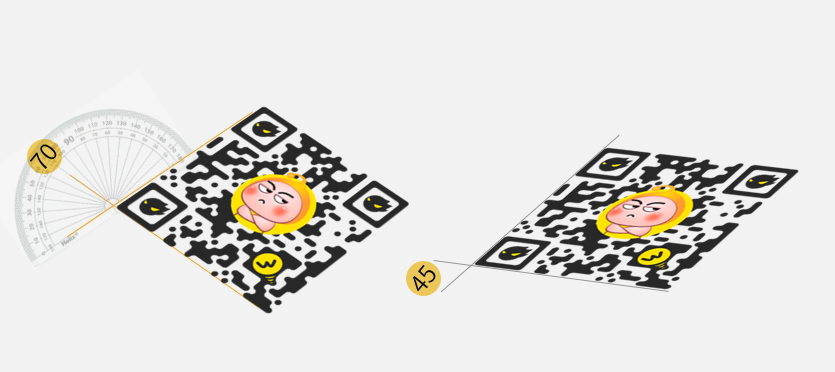QRCode: (125, 103, 409, 320), (470, 146, 799, 303)
